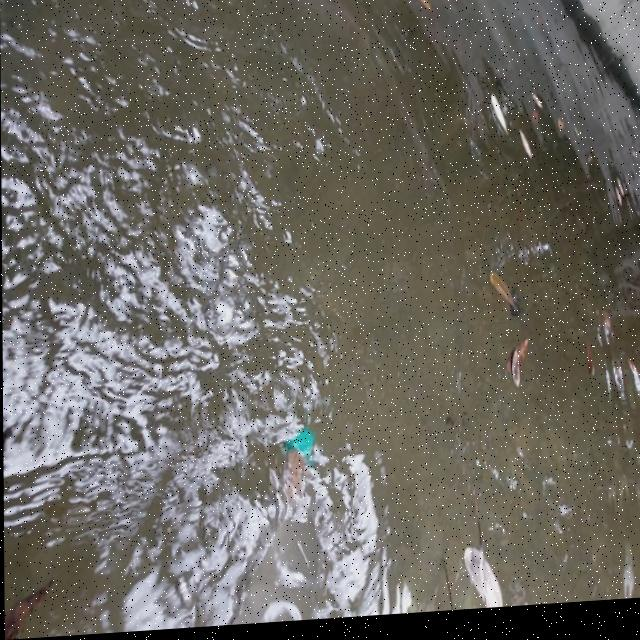waterbottle: (220, 411, 354, 629)
